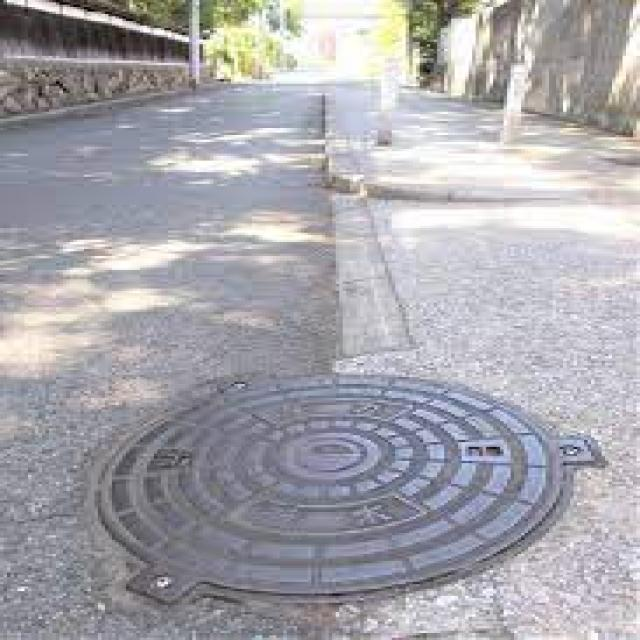manhole: (95, 374, 563, 596)
